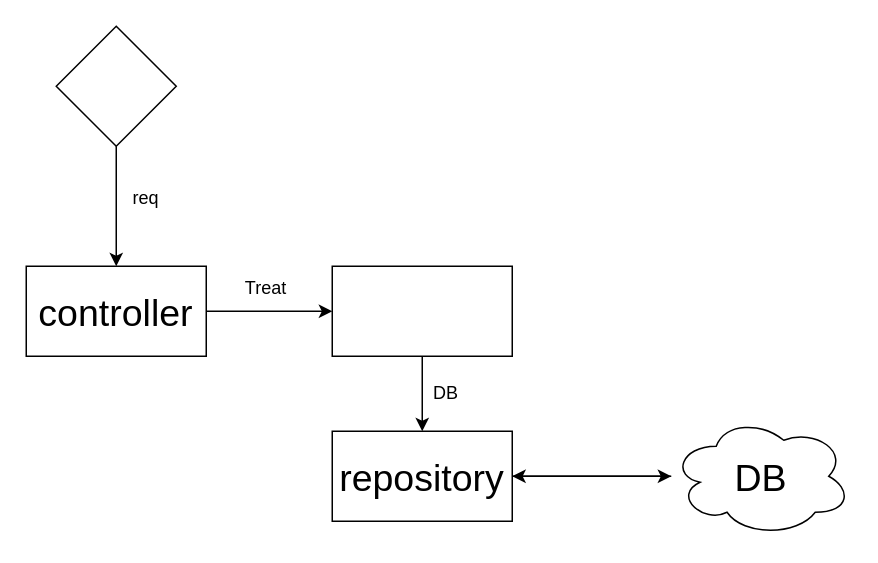
Image size: 878x563. Some labels were removed from this diagram. Each missing label, with the centre of its shape:
"client" belongs at pixel 115 85.
"service" belongs at pixel 421 310.
